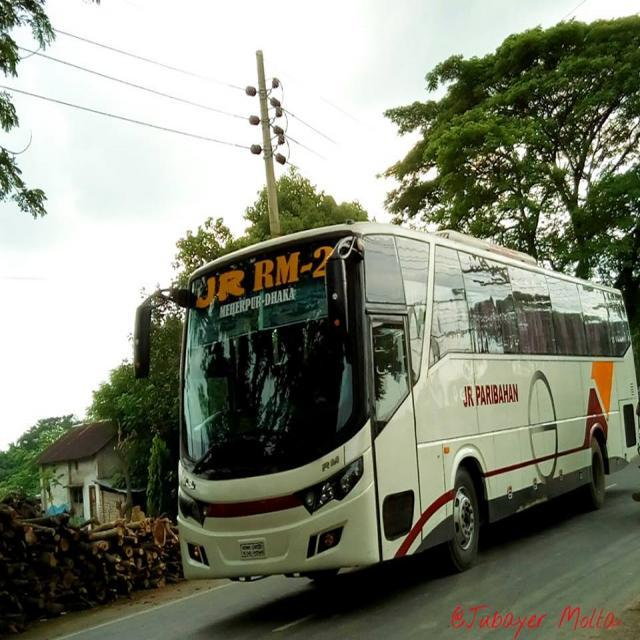bus: (134, 220, 639, 587)
